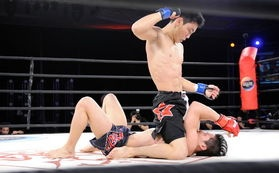falling: (43, 88, 240, 158)
